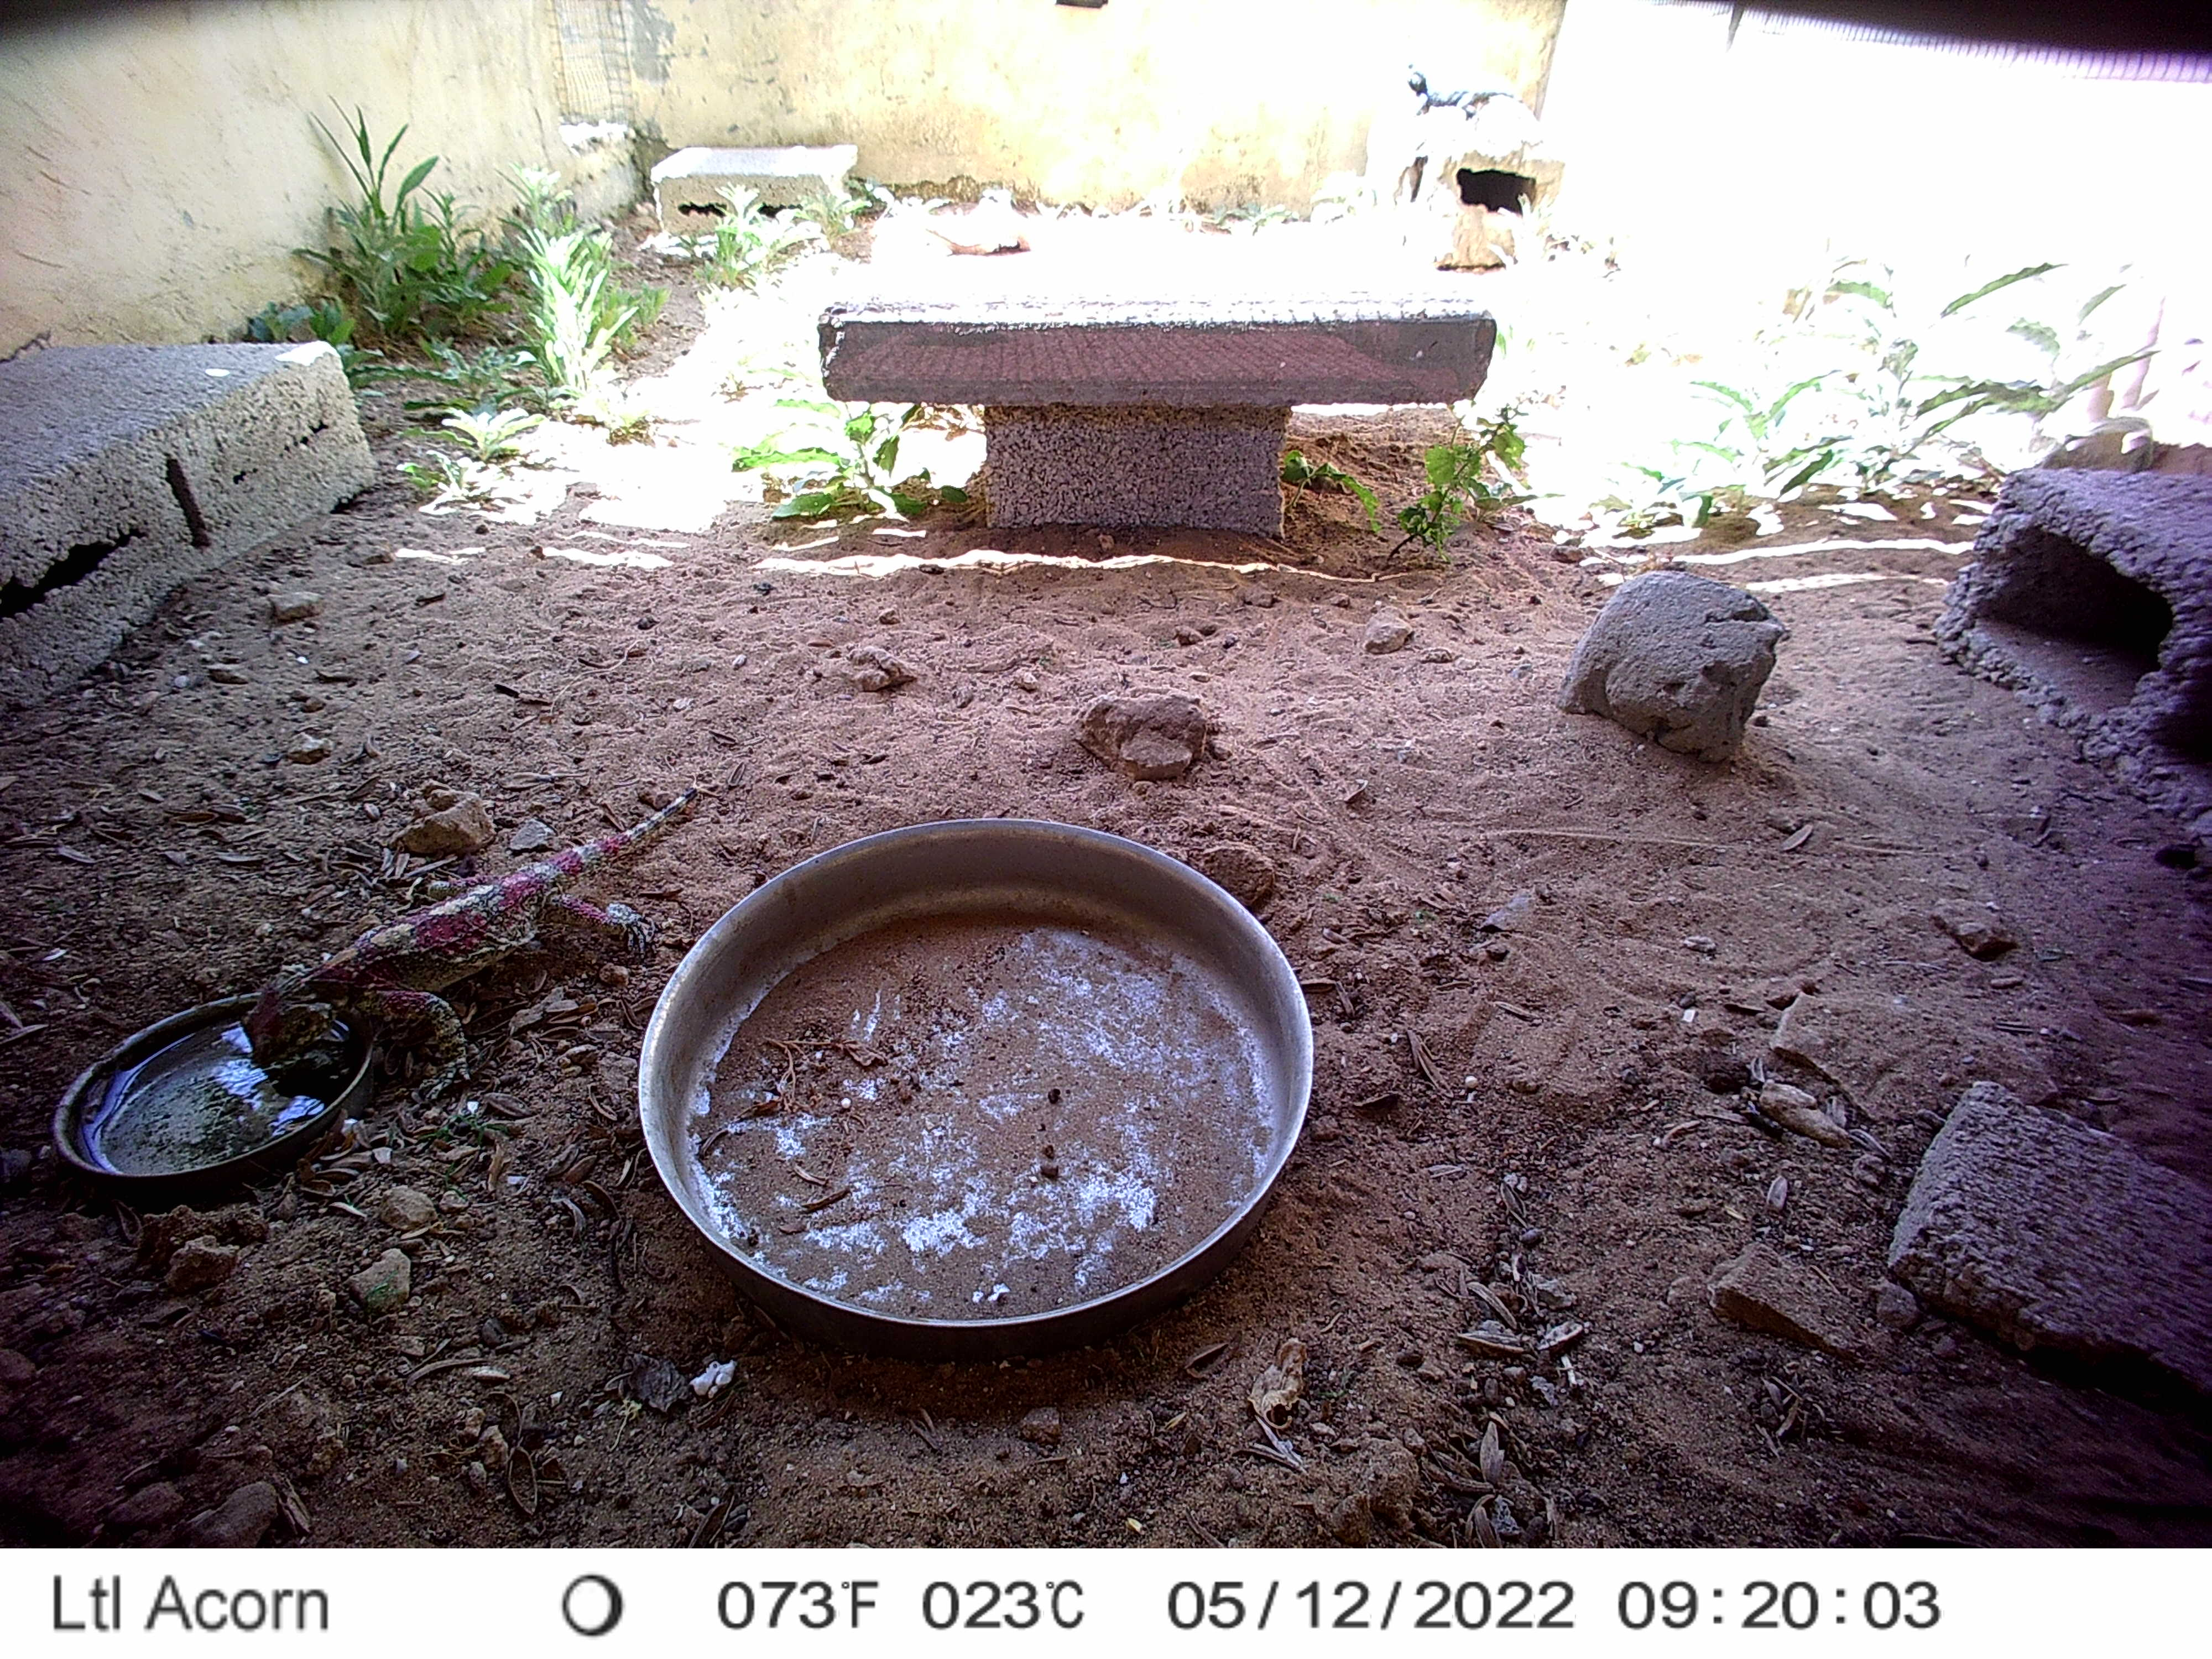lizard: (1712, 812, 2203, 1131), (845, 204, 1014, 329), (1270, 30, 1348, 63)
